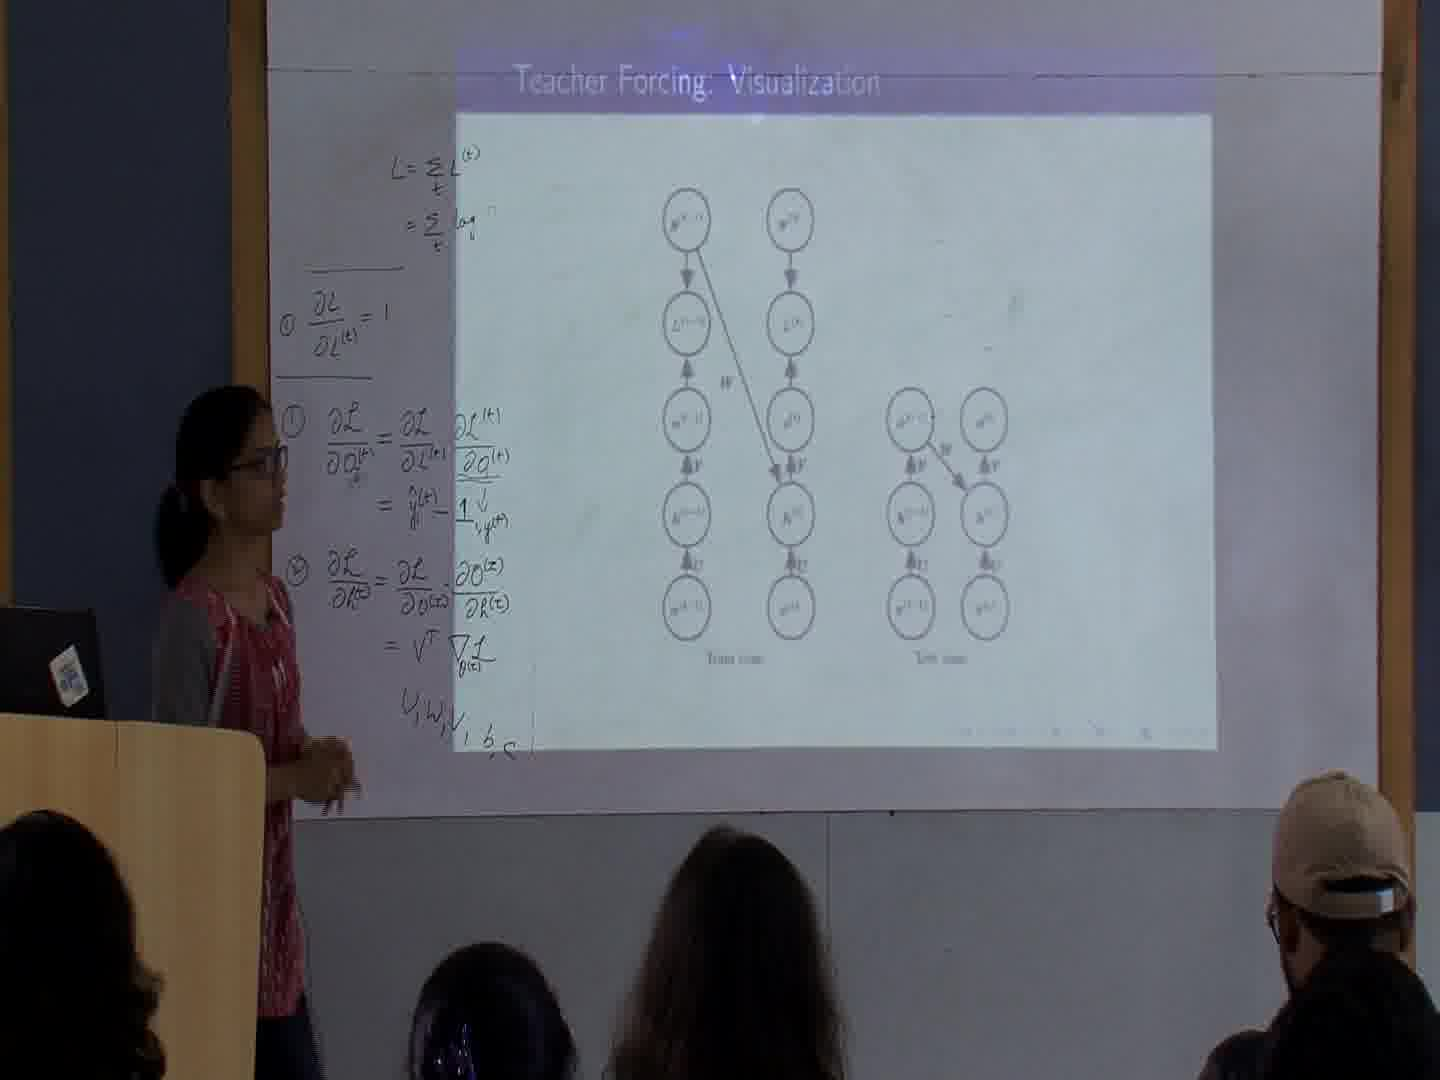slide: (457, 47, 1215, 749)
